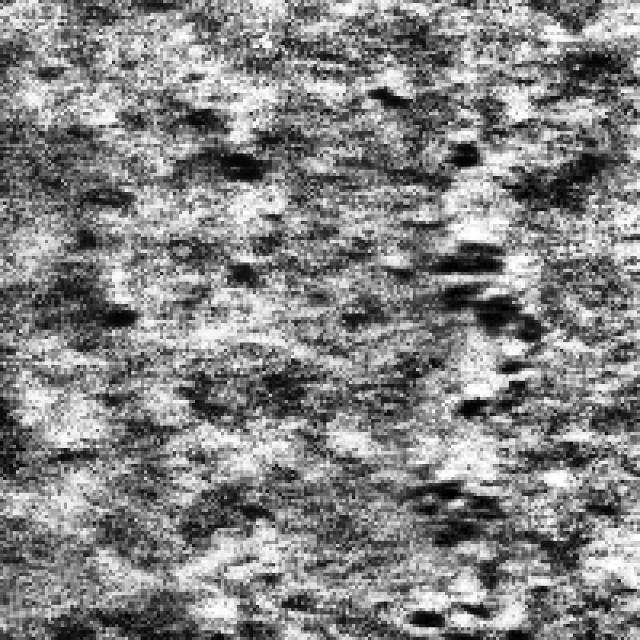Crazing: (378, 214, 540, 416), (400, 458, 534, 634)
